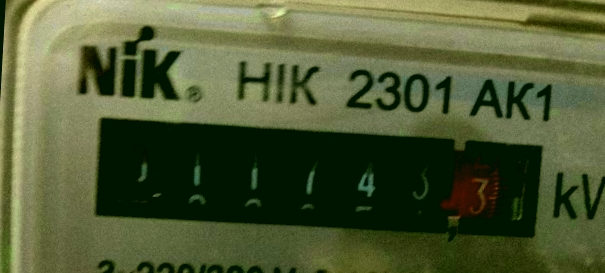0: (121, 136, 153, 184)
1: (241, 144, 265, 193), (186, 140, 206, 189)
3: (405, 155, 435, 203), (464, 172, 491, 217)
4: (351, 151, 382, 200)
7: (297, 149, 324, 198)
screen: (77, 106, 549, 249)
